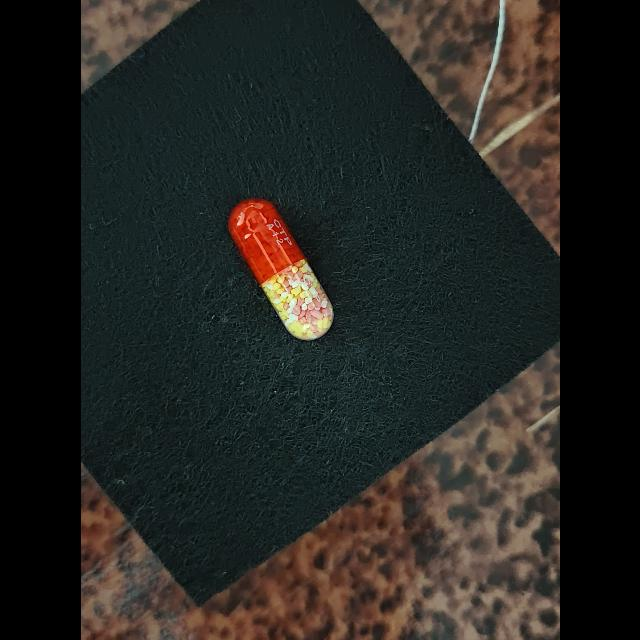Intact Capsule: (227, 199, 333, 340)
